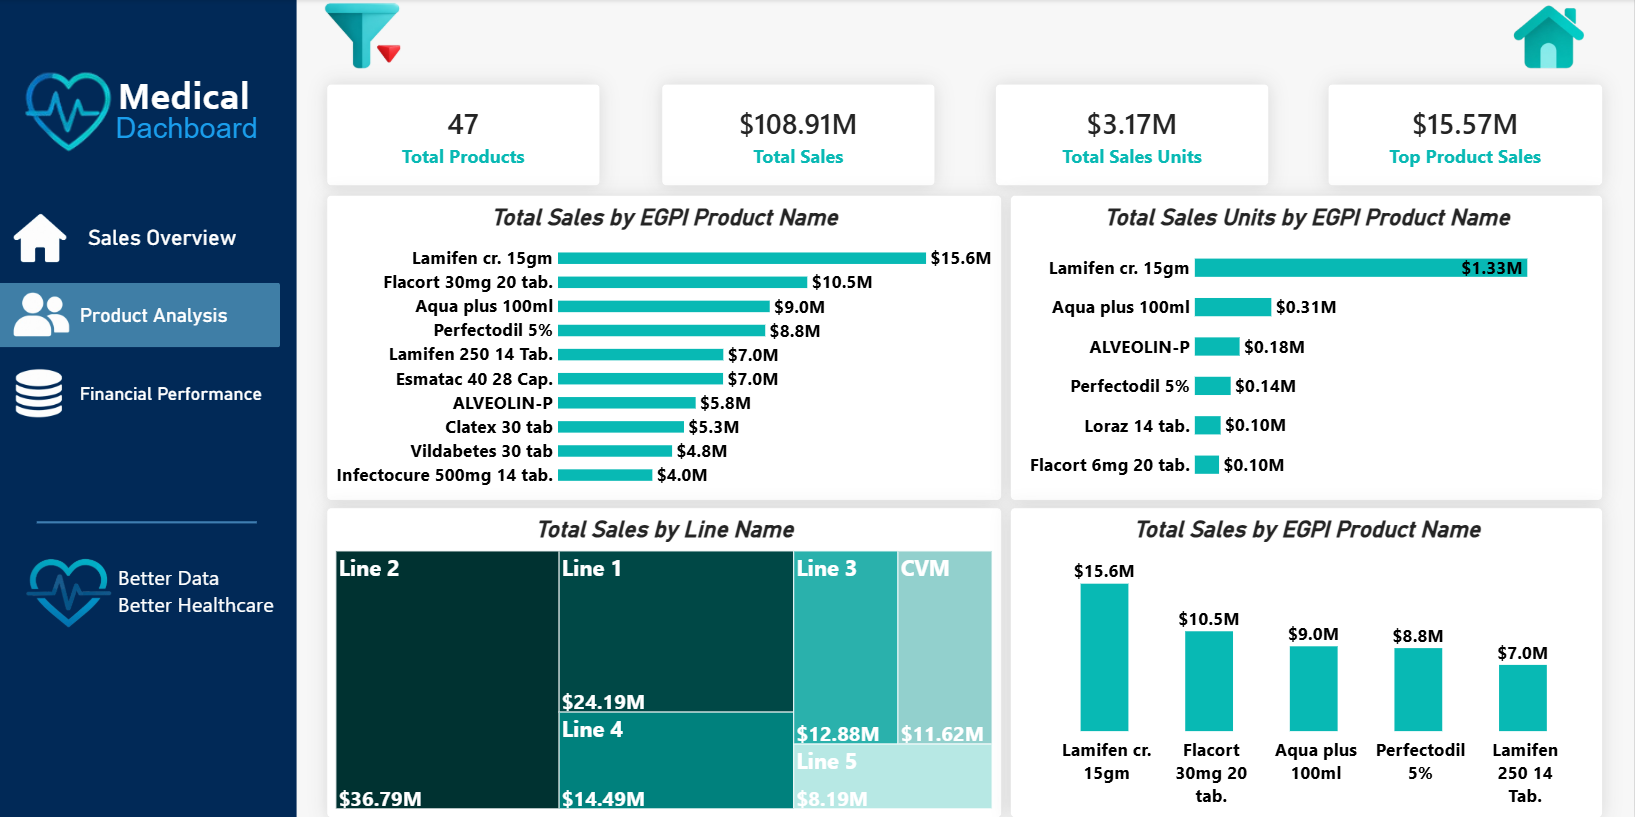

The page's visual inventory and layout, read from the dashboard file:
{"tool":"powerbi","page":{"name":"Product Analysis","canvas":[3000,1500],"ordinal":2},"visuals":[{"type":"actionButton","box":[0,0,547.2,1500.5],"z":0},{"type":"image","box":[47.9,131.1,166.4,151.3],"z":1000},{"type":"textbox","box":[219.4,133.7,259.8,88.3],"z":2000},{"type":"textbox","box":[214.4,206.8,269.8,90.8],"z":3000},{"type":"actionButton","box":[0,378.3,517,118.5],"z":4000},{"type":"actionButton","box":[0,520.8,517,118.5],"z":5000},{"type":"actionButton","box":[0,663.3,517,118.5],"z":6000},{"type":"image","box":[27.7,390.9,103.4,95.8],"z":7000},{"type":"image","box":[25.2,532.1,111,95.8],"z":8000},{"type":"image","box":[18.8,672.9,111,95.8],"z":9000},{"type":"shape","box":[70.9,929.3,403.5,58],"z":10000},{"type":"image","box":[0,973.4,259.8,221.9],"z":11000},{"type":"textbox","box":[219.4,1034,302.6,108.4],"z":12000},{"type":"card","fields":{"Values":["Table.Top Product Sales"]},"box":[2437.9,156,503,186.3],"z":13000},{"type":"card","fields":{"Values":["Table.Total Products"]},"box":[603.1,156,500.6,186.3],"z":14000},{"type":"card","fields":{"Values":["Table.Total Sales"]},"box":[1215.5,156,500.6,186.3],"z":15000},{"type":"card","fields":{"Values":["Table.Total Sales Units"]},"box":[1827.9,156,500.6,186.3],"z":16000},{"type":"clusteredBarChart","fields":{"Category":["Sales Performance.EGPI Product Name"],"Y":["Table.Total Sales"]},"box":[603.1,358.6,1236.4,558.8],"z":17000},{"type":"treemap","fields":{"Group":["Sales Performance.Line Name"],"Values":["Table.Total Sales"]},"box":[603.1,931.4,1236.4,568.2],"z":18000},{"type":"clusteredBarChart","fields":{"Category":["Sales Performance.EGPI Product Name"],"Y":["Table.Total Sales Units"]},"box":[1855.8,358.6,1085.1,558.8],"z":19000},{"type":"columnChart","fields":{"Category":["Sales Performance.EGPI Product Name"],"Y":["Table.Total Sales"]},"box":[1855.8,931.4,1085.1,568.2],"z":20000},{"type":"image","box":[598,0,139.6,132.3],"z":25000},{"type":"image","box":[2766.5,2.3,150,131.3],"z":25001}]}

Visuals, with their boxes in screenshot pixels (x1, y1, x2, y2), scaled from the page's 3000x1500 canvas onto the 1635x817 screenshot:
actionButton: bbox(0, 0, 298, 816)
image: bbox(26, 71, 117, 154)
textbox: bbox(120, 73, 261, 121)
textbox: bbox(117, 113, 264, 162)
actionButton: bbox(0, 206, 282, 271)
actionButton: bbox(0, 284, 282, 348)
actionButton: bbox(0, 361, 282, 426)
image: bbox(15, 213, 71, 265)
image: bbox(14, 290, 74, 342)
image: bbox(10, 367, 71, 419)
shape: bbox(39, 506, 259, 538)
image: bbox(0, 530, 142, 651)
textbox: bbox(120, 563, 284, 622)
card - Table.Top Product Sales: bbox(1329, 85, 1603, 186)
card - Table.Total Products: bbox(329, 85, 602, 186)
card - Table.Total Sales: bbox(662, 85, 935, 186)
card - Table.Total Sales Units: bbox(996, 85, 1269, 186)
clusteredBarChart - Sales Performance.EGPI Product Name x Table.Total Sales: bbox(329, 195, 1003, 500)
treemap - Sales Performance.Line Name x Table.Total Sales: bbox(329, 507, 1003, 816)
clusteredBarChart - Sales Performance.EGPI Product Name x Table.Total Sales Units: bbox(1011, 195, 1603, 500)
columnChart - Sales Performance.EGPI Product Name x Table.Total Sales: bbox(1011, 507, 1603, 816)
image: bbox(326, 0, 402, 72)
image: bbox(1508, 1, 1589, 73)
